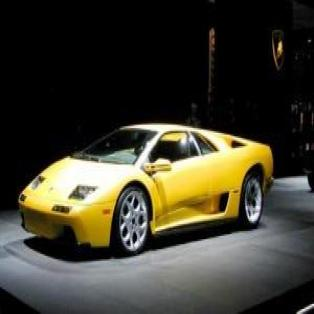Auto: (6, 83, 302, 299)
